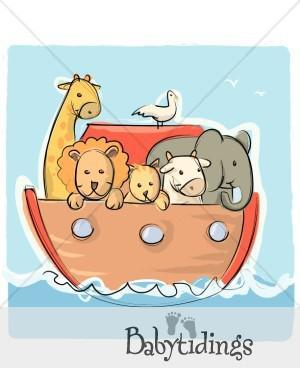bird: (129, 83, 183, 127)
boat: (21, 112, 256, 294)
cow: (157, 151, 210, 207)
dog: (121, 161, 171, 207)
